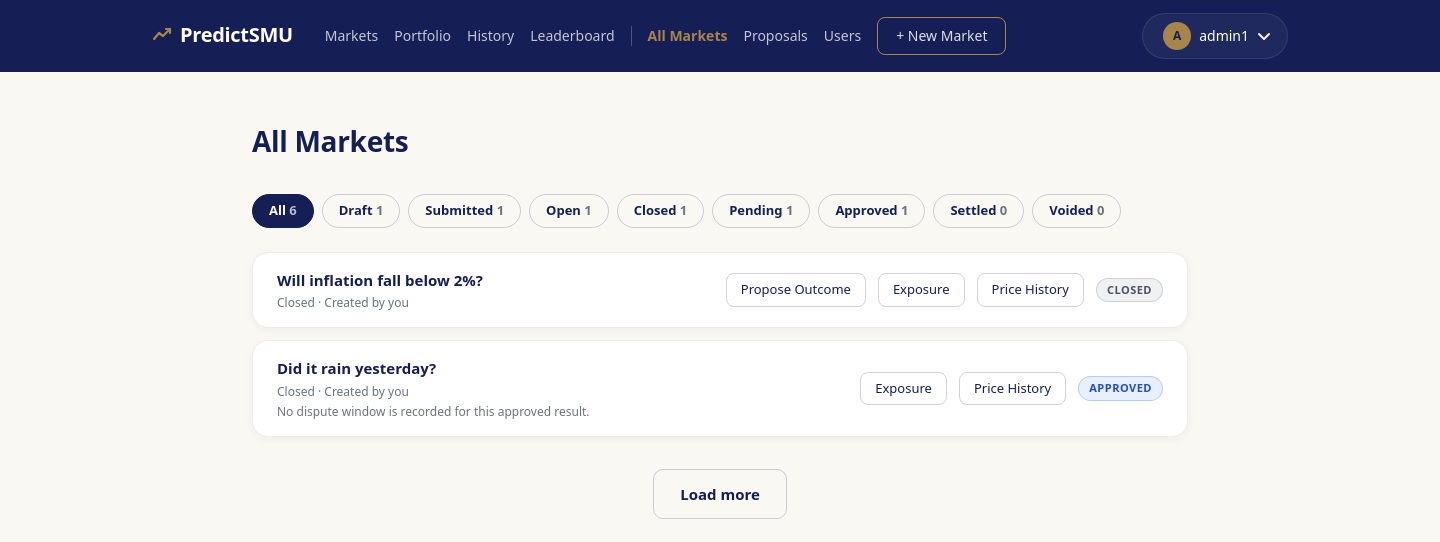
Test: AdminMarketsPage › appends the next page when Load more is clicked, and hides the button on the last page
Check: the text "Will inflation fall below 2%?" is shown, box [277,268,483,291]
Check: the text "Will it rain?" is not shown
Click the button "Load more" at (720, 494), box [653,468,787,519]
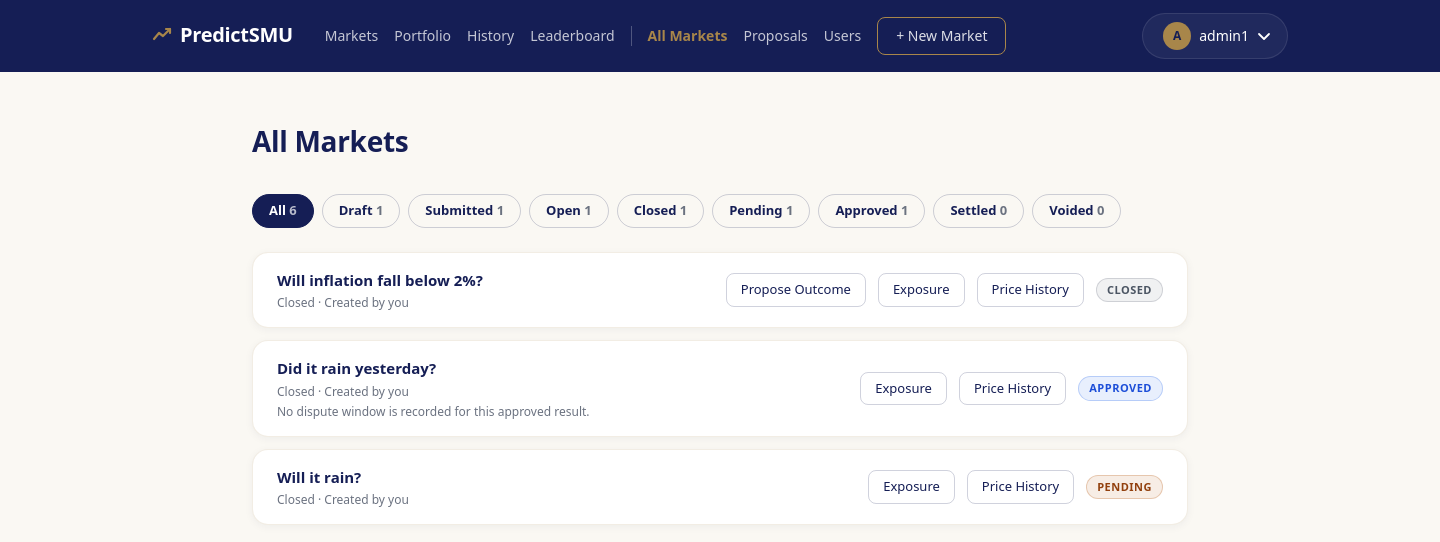
Check: the text "Will it rain?" is shown, box [277,466,361,486]
Check: the button "Load more" is gone
